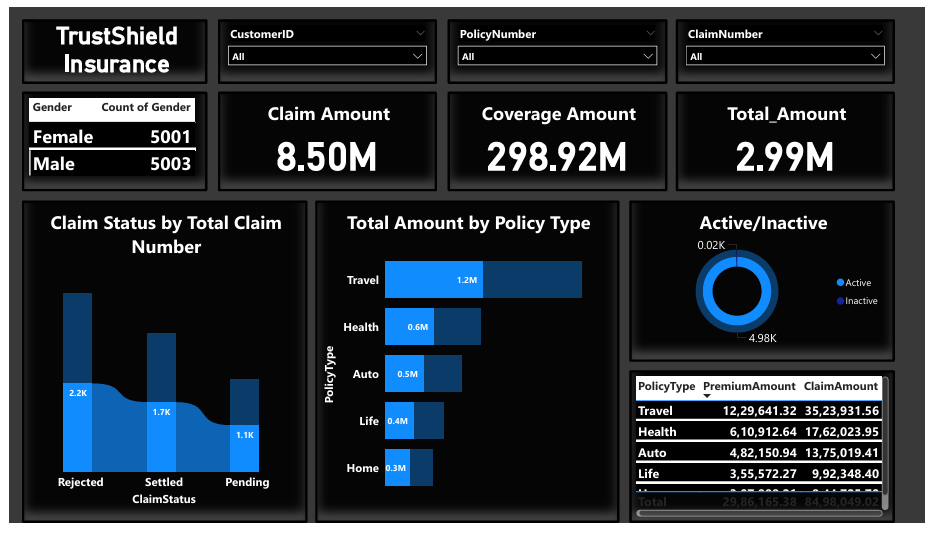

What the dashboard file says about the page in this screenshot:
{"tool":"powerbi","page":{"name":"Page 1","canvas":[1280,720],"ordinal":0},"visuals":[{"type":"slicer","fields":{"Values":["InsuranceData.ClaimNumber"]},"box":[931.7,16.7,306.7,90],"z":0},{"type":"slicer","fields":{"Values":["InsuranceData.PolicyNumber"]},"box":[613.3,16.7,306.7,90],"z":1},{"type":"slicer","fields":{"Values":["InsuranceData.CustomerID"]},"box":[291.7,16.7,306.7,90],"z":2},{"type":"textbox","title":"TrustShield Insurance","box":[18.3,16.7,258.3,90],"z":3},{"type":"card","title":"Total_Amount","fields":{"Values":["Sum(InsuranceData.PremiumAmount)"]},"box":[931.7,118.3,306.7,138.3],"z":4},{"type":"card","title":"Coverage Amount","fields":{"Values":["Sum(InsuranceData.CoverageAmount)"]},"box":[613.3,118.3,306.7,138.3],"z":5},{"type":"card","title":"Claim Amount","fields":{"Values":["Sum(InsuranceData.ClaimAmount)"]},"box":[291.7,118.3,306.7,138.3],"z":6},{"type":"tableEx","fields":{"Values":["InsuranceData.Gender","CountNonNull(InsuranceData.Gender)"]},"box":[18.3,118.3,258.3,138.3],"z":7},{"type":"ribbonChart","title":"Claim Status by Total Claim Number","fields":{"Category":["InsuranceData.ClaimStatus"],"Y":["CountNonNull(InsuranceData.ClaimStatus)"]},"box":[18.3,270,398.3,450],"z":8},{"type":"clusteredBarChart","title":"Total Amount by  Policy Type","fields":{"Category":["InsuranceData.PolicyType"],"Y":["Sum(InsuranceData.PremiumAmount)"]},"box":[428.3,270,425,450],"z":9},{"type":"donutChart","title":"Active/Inactive","fields":{"Category":["InsuranceData.Active/Inactive"],"Y":["CountNonNull(InsuranceData.Active/Inactive)"]},"box":[866.7,270,371.7,225],"z":10},{"type":"tableEx","fields":{"Values":["InsuranceData.PolicyType","Sum(InsuranceData.PremiumAmount)","Sum(InsuranceData.ClaimAmount)"]},"box":[866.7,506.7,371.7,213.3],"z":11}]}

Visuals, with their boxes in screenshot pixels (x1, y1, x2, y2), scaled from the page's 1280x720 canvas onto the 931x535 screenshot:
slicer - InsuranceData.ClaimNumber: <region>678, 12, 901, 79</region>
slicer - InsuranceData.PolicyNumber: <region>446, 12, 669, 79</region>
slicer - InsuranceData.CustomerID: <region>212, 12, 435, 79</region>
"TrustShield Insurance" textbox: <region>13, 12, 201, 79</region>
"Total_Amount" card: <region>678, 88, 901, 191</region>
"Coverage Amount" card: <region>446, 88, 669, 191</region>
"Claim Amount" card: <region>212, 88, 435, 191</region>
tableEx - InsuranceData.Gender x CountNonNull(InsuranceData.Gender): <region>13, 88, 201, 191</region>
"Claim Status by Total Claim Number" ribbonChart: <region>13, 201, 303, 534</region>
"Total Amount by  Policy Type" clusteredBarChart: <region>312, 201, 621, 534</region>
"Active/Inactive" donutChart: <region>630, 201, 901, 368</region>
tableEx - InsuranceData.PolicyType x Sum(InsuranceData.PremiumAmount): <region>630, 377, 901, 534</region>
